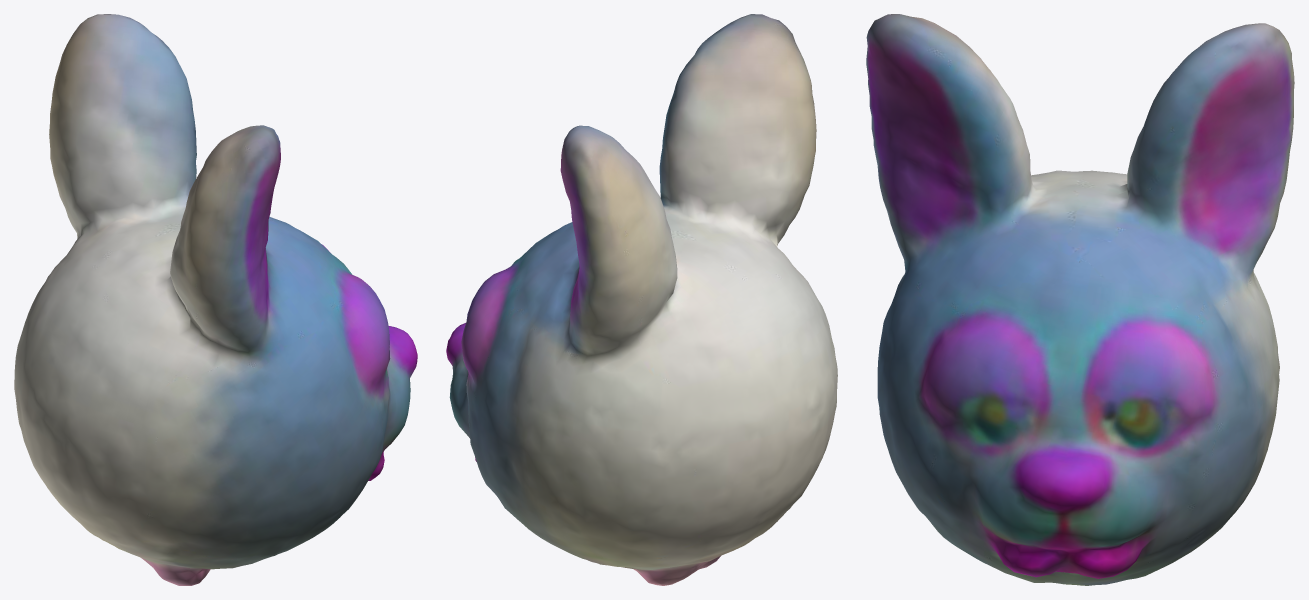
Rendered from Create_rabbit_with_Round_face_with_soft_features_large_eyes_0614155221_preview.obj.
3 renders of one model, left to right at view 1: azimuth 30°, elevation 25°; view 2: azimuth 150°, elevation 25°; view 3: azimuth 270°, elevation 25°, orthographic. The views are drawn at different scales.
Parts seen in each view (by area): view 1: Mesh1; view 2: Mesh1; view 3: Mesh1.
Part boxes in pixels (box(x1,y1,x2,y2)): Mesh1: box(14, 14, 417, 585); Mesh1: box(446, 14, 837, 585); Mesh1: box(866, 14, 1294, 585).
Bounding box in the file's own units: 0.9186 × 1.2 × 0.843.
Materials: 1 (1 with a texture image).
